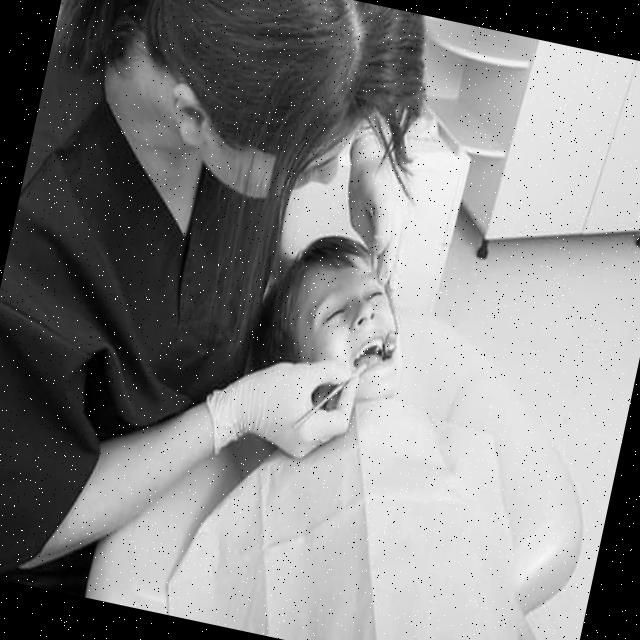Fear: (287, 260, 421, 403)
